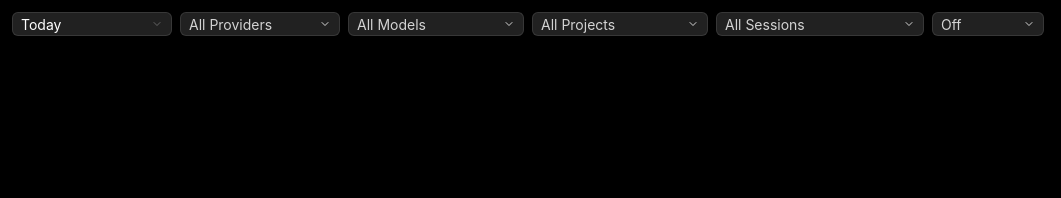
Test: UsageFilters › 默认展示全部会话并渲染会话候选
This screenshot has width=1061, height=198.
Click the button "All Sessions": (820, 24) [716,12,924,36]
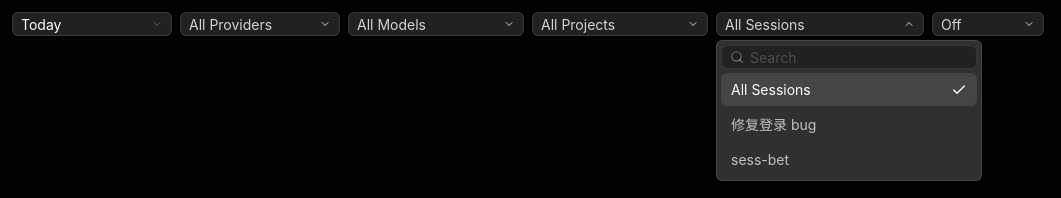
Now the option "修复登录 bug" is shown, box [721,108,977,141]
Now the option "sess-bet" is shown, box [721,143,977,176]
